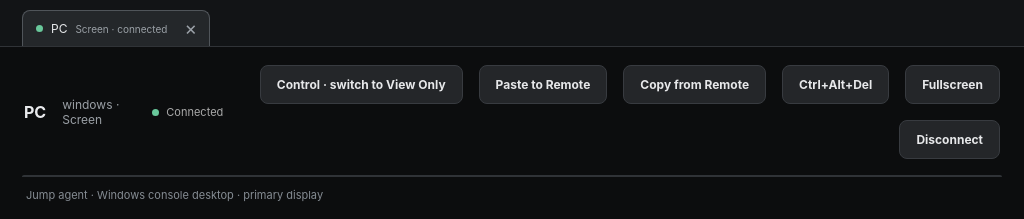
Test: explicit Screen actions › shows matching clipboard and SAS buttons disabled in View Only
Check: the button "Paste to Remote" is enabled, box x1=479 y1=65 x2=607 y2=104
Check: the button "Copy from Remote" is enabled, box x1=623 y1=65 x2=766 y2=104
Click the button "Control · switch to View Only" at {"x": 361, "y": 84}, box x1=260 y1=65 x2=463 y2=104
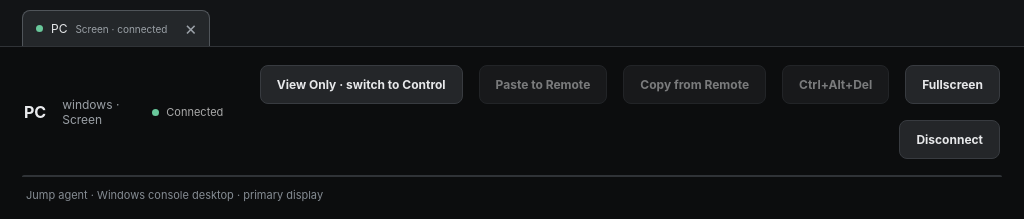
Check: the button "Paste to Remote" is disabled, box x1=479 y1=65 x2=607 y2=104
Check: the button "Copy from Remote" is disabled, box x1=623 y1=65 x2=766 y2=104
Check: the button "Ctrl+Alt+Del" is disabled, box x1=782 y1=65 x2=889 y2=104
